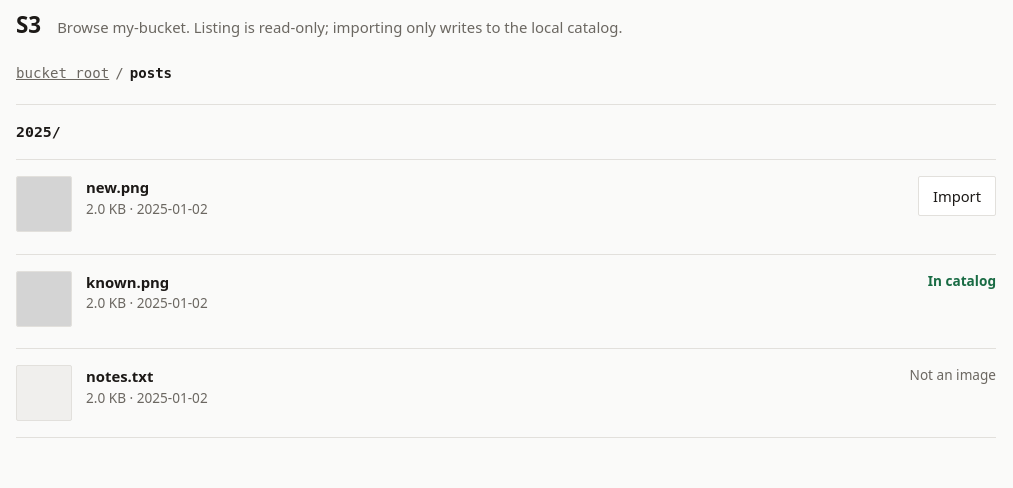
it: S3Browser › shows an import failure on the row and keeps the button
The width and height of the screenshot is (1013, 488).
Click the button "Import": click(957, 196) left=918, top=176, right=996, bottom=216
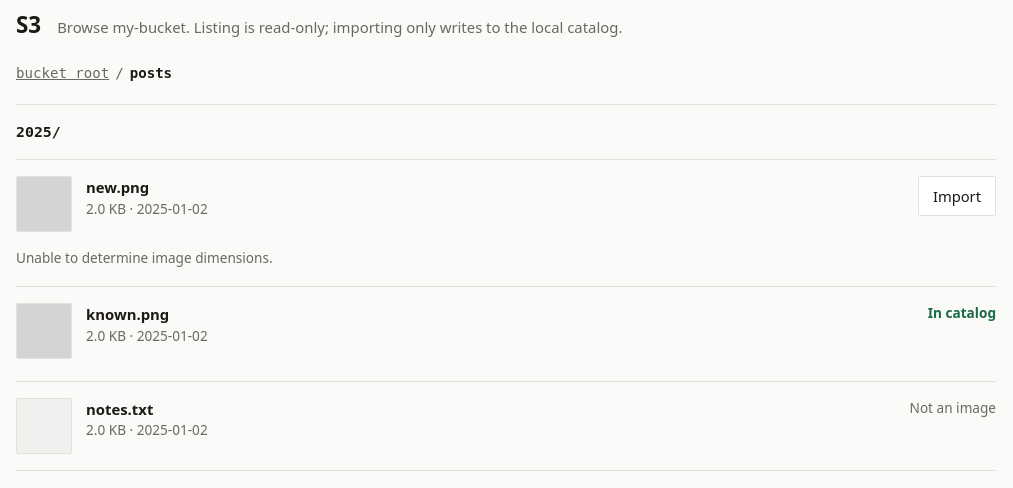
expect the text "Unable to determine image dimensions." is shown: met, box left=16, top=248, right=273, bottom=267
